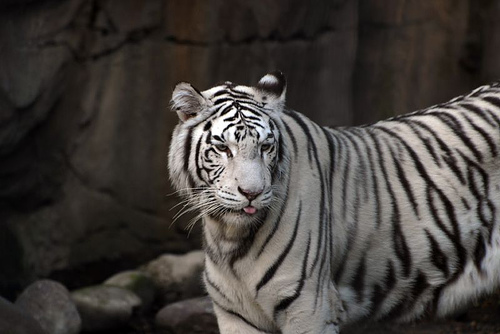Tigre: (138, 29, 472, 291)
